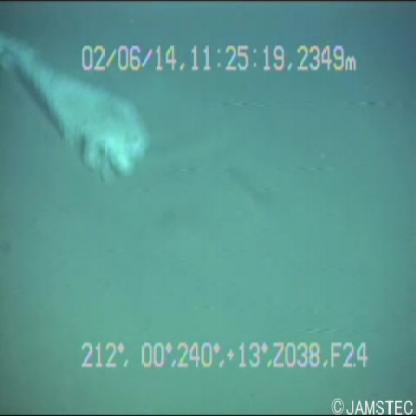Rác: (1, 31, 158, 198)
